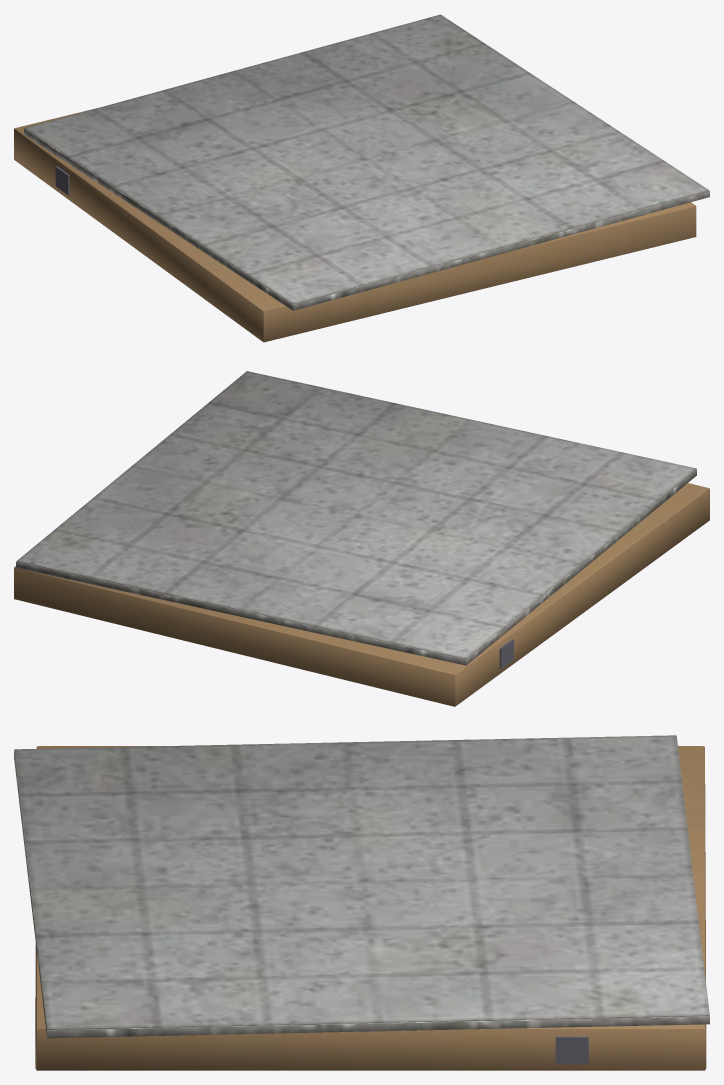
File: PIS-CER-003_lod1.glb
The picture shows the model from 3 angles, top to bottom: view 1: azimuth 30°, elevation 25°; view 2: azimuth 150°, elevation 25°; view 3: azimuth 270°, elevation 25°; orthographic projection. The views are drawn at different scales.
Visible parts, largest first — view 1: PIS-CER-003_face, PIS-CER-003_caixa, PIS-CER-003_corpo; view 2: PIS-CER-003_face, PIS-CER-003_caixa, PIS-CER-003_corpo; view 3: PIS-CER-003_face, PIS-CER-003_caixa, PIS-CER-003_corpo, PIS-CER-003_faixa.
Part boxes in pixels (x1,y1,x2,y2): PIS-CER-003_face: (24, 14, 709, 304); PIS-CER-003_caixa: (14, 108, 696, 342); PIS-CER-003_corpo: (24, 129, 709, 310); PIS-CER-003_face: (16, 371, 696, 658); PIS-CER-003_caixa: (14, 483, 709, 706); PIS-CER-003_corpo: (16, 469, 696, 665); PIS-CER-003_face: (14, 735, 709, 1029); PIS-CER-003_caixa: (35, 746, 706, 1070); PIS-CER-003_corpo: (14, 737, 709, 1038); PIS-CER-003_faixa: (555, 1036, 588, 1063).
Bounding box in the file's own units: 0.6304 × 0.054 × 0.6285.
6 materials, 4 textured.
